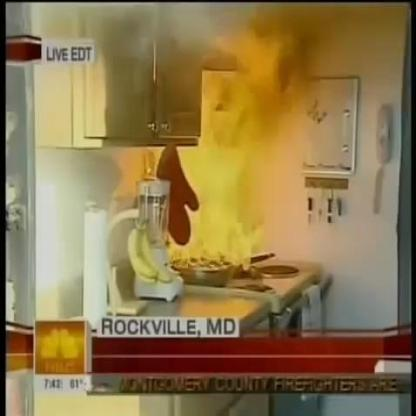fire: (161, 35, 291, 274)
